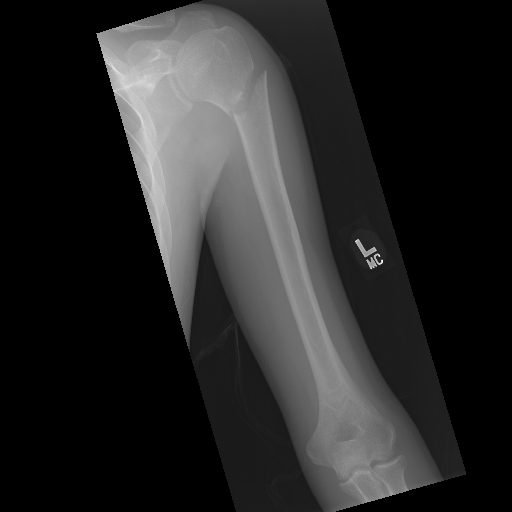fracture: (223, 58, 270, 132)
